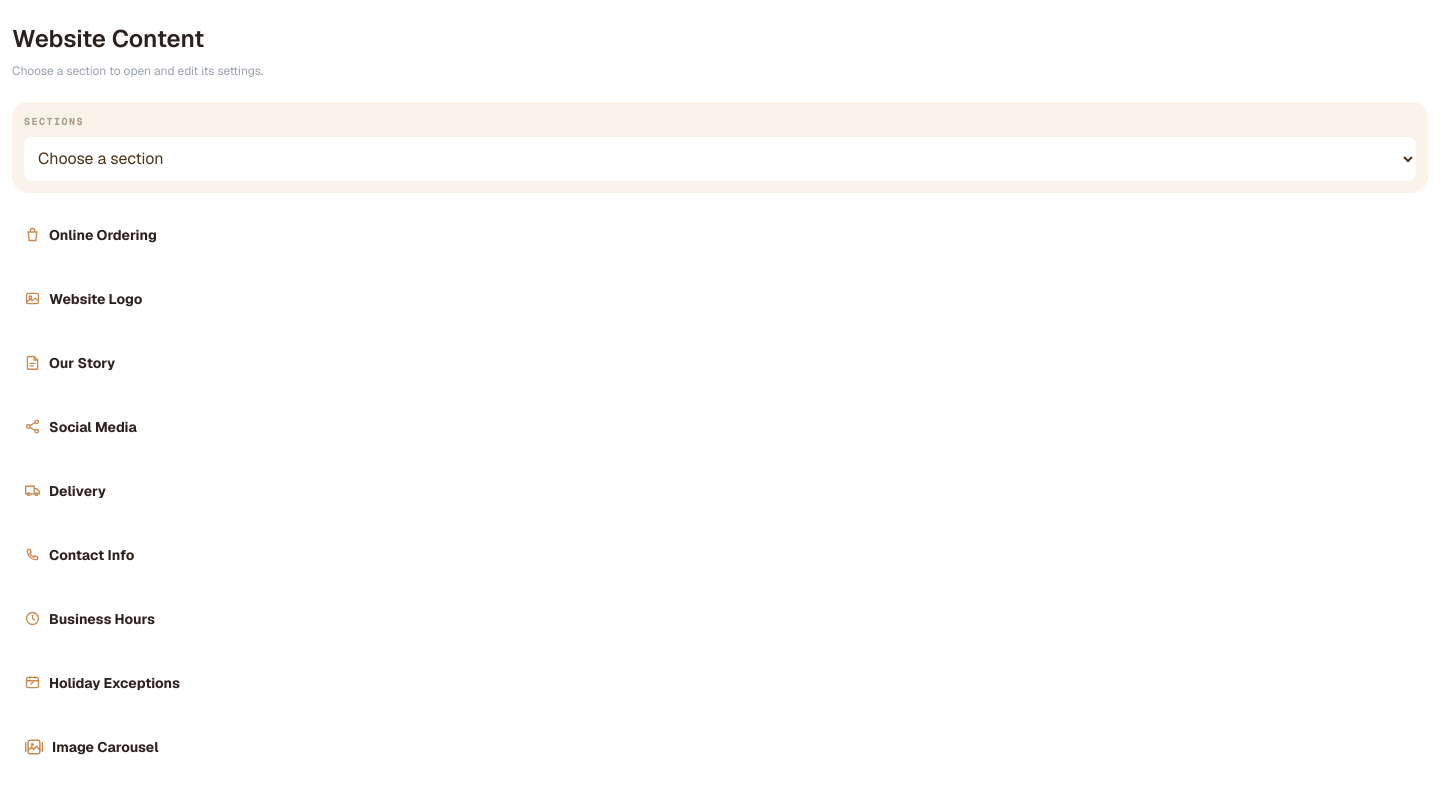
Test: confirmed website content deletion › keeps holiday confirmation informative on 404 and blocks retry until reload
Select "Holiday Exceptions" in the dropdown labelled "Sections" at (720, 158), box [24,136,1416,180]
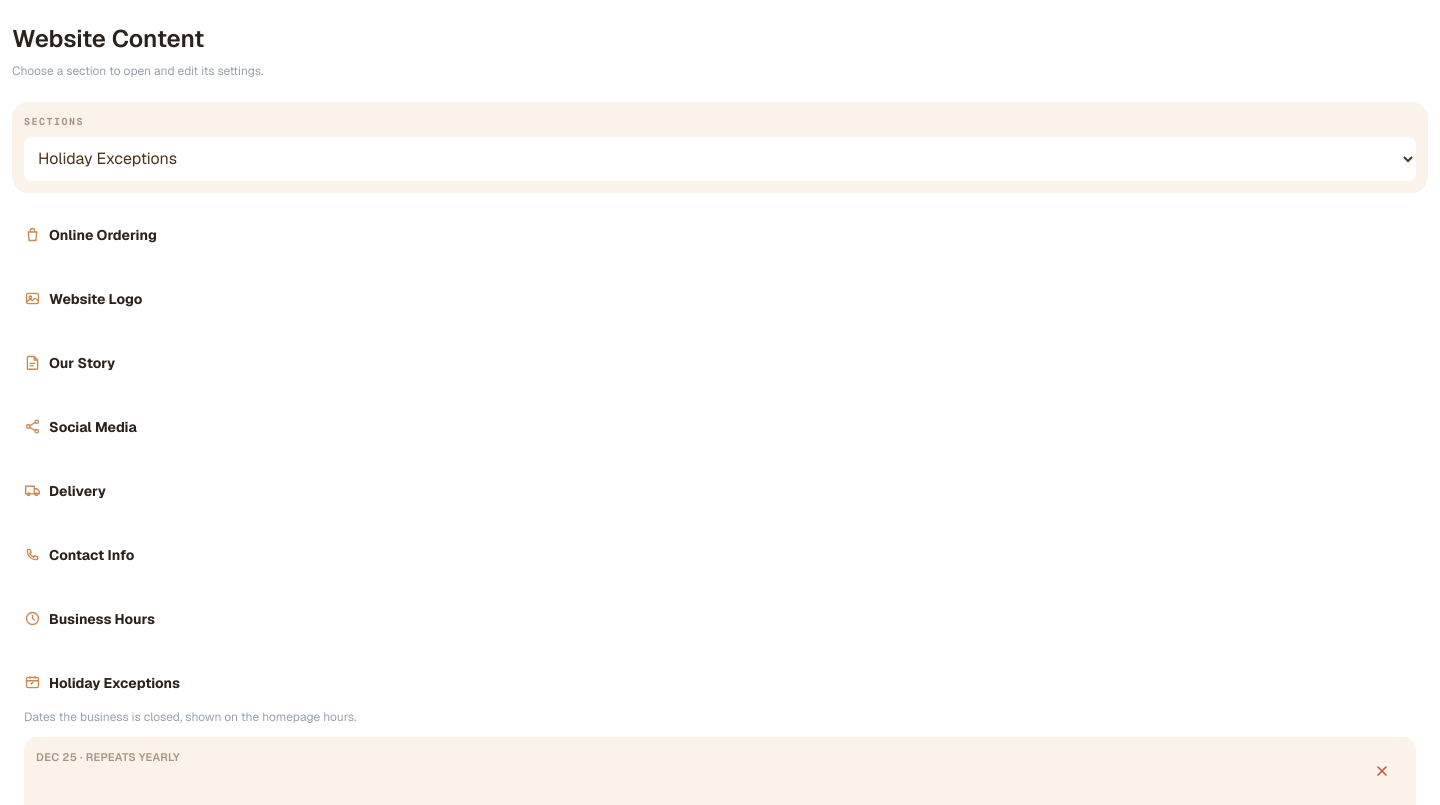
Click the button named "Remove Christmas".
click(1382, 770)  # box [1360,748,1404,792]
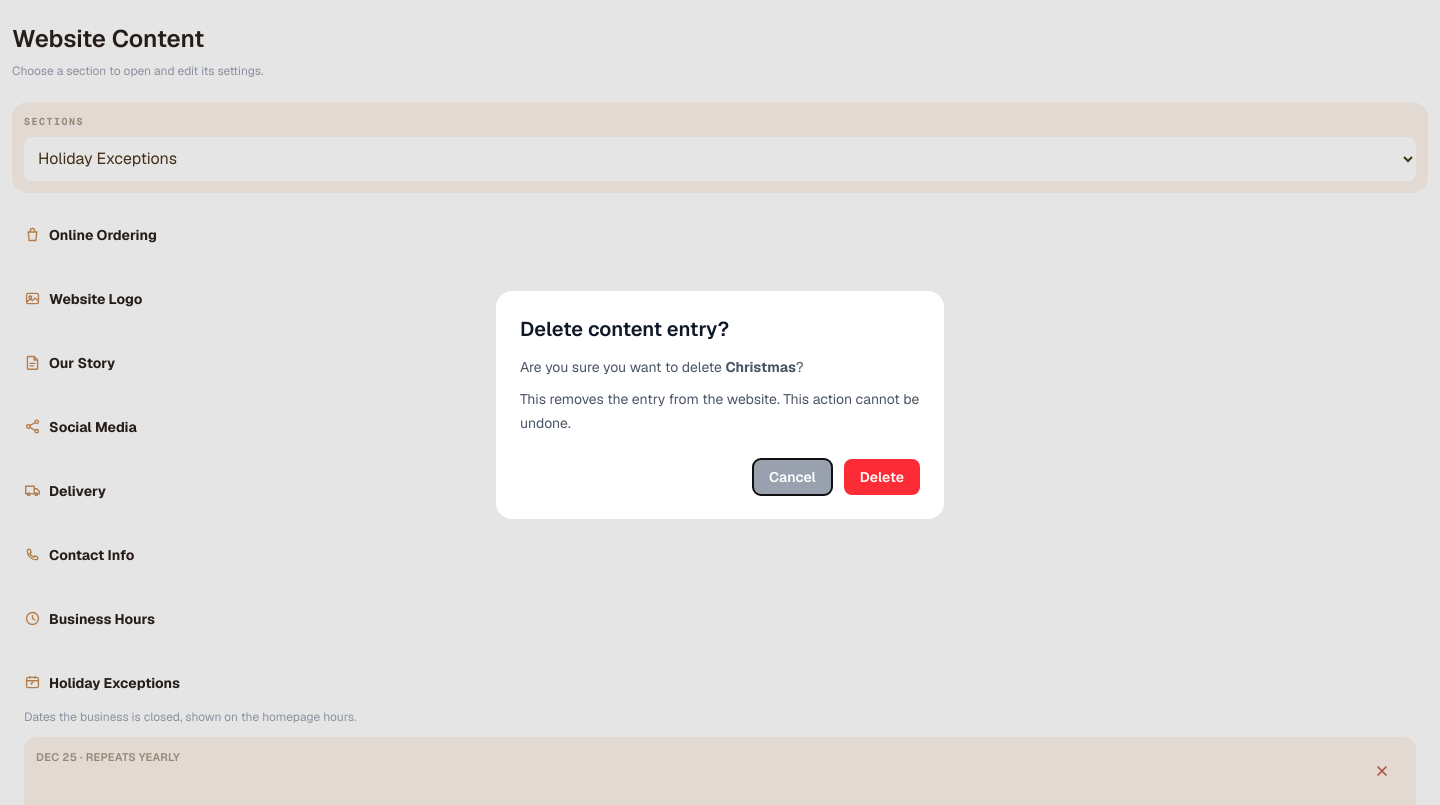
Click the button "Delete".
click(882, 477)  # box [844,459,920,495]
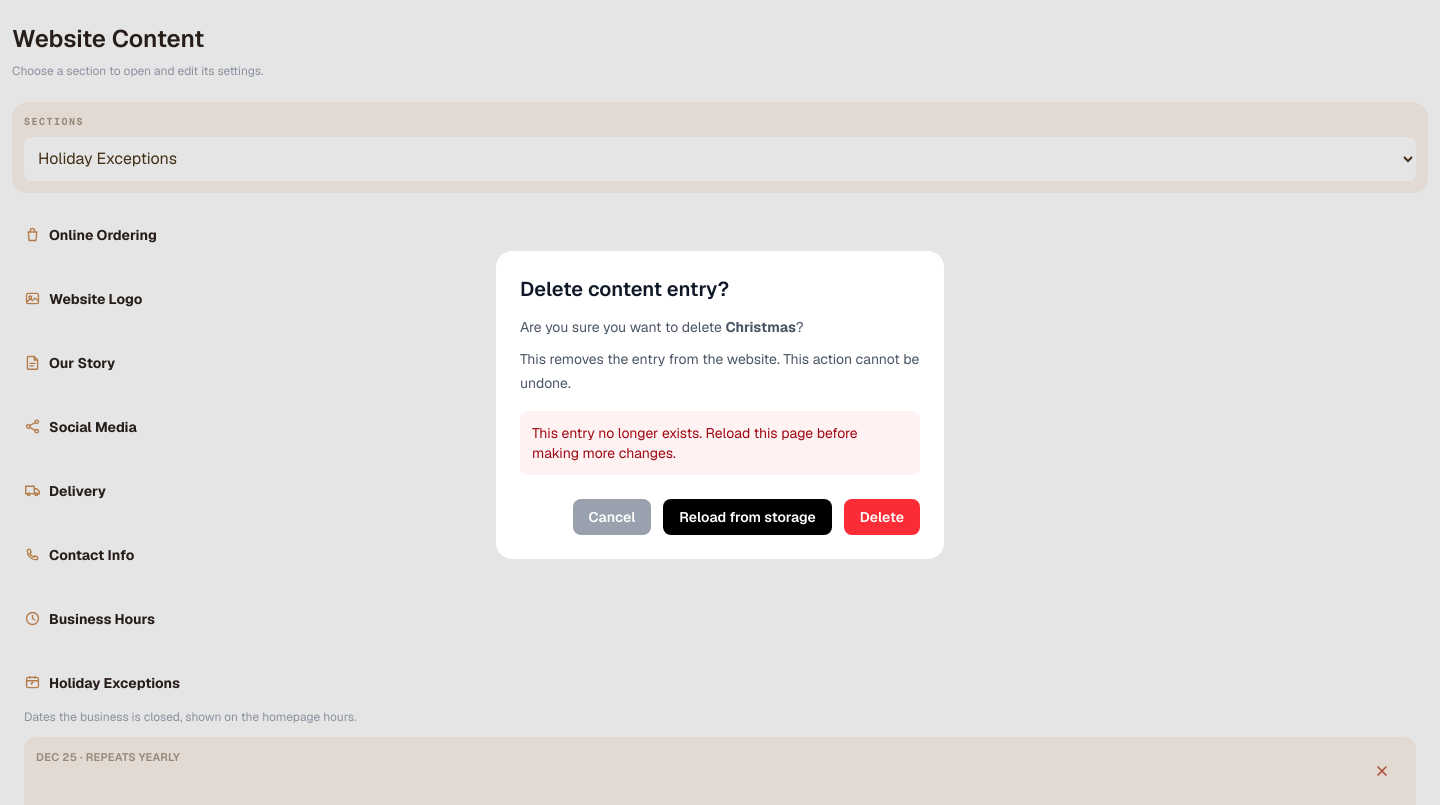
Check: the dialog is shown, box [496,251,944,559]
Check: the button named "Remove Christmas" is shown, box [1360,748,1404,792]
Check: the text "This entry no longer exists. Reload this page before making more changes." is shown, box [520,411,920,475]
Click the button "Delete".
click(882, 517)  # box [844,499,920,535]
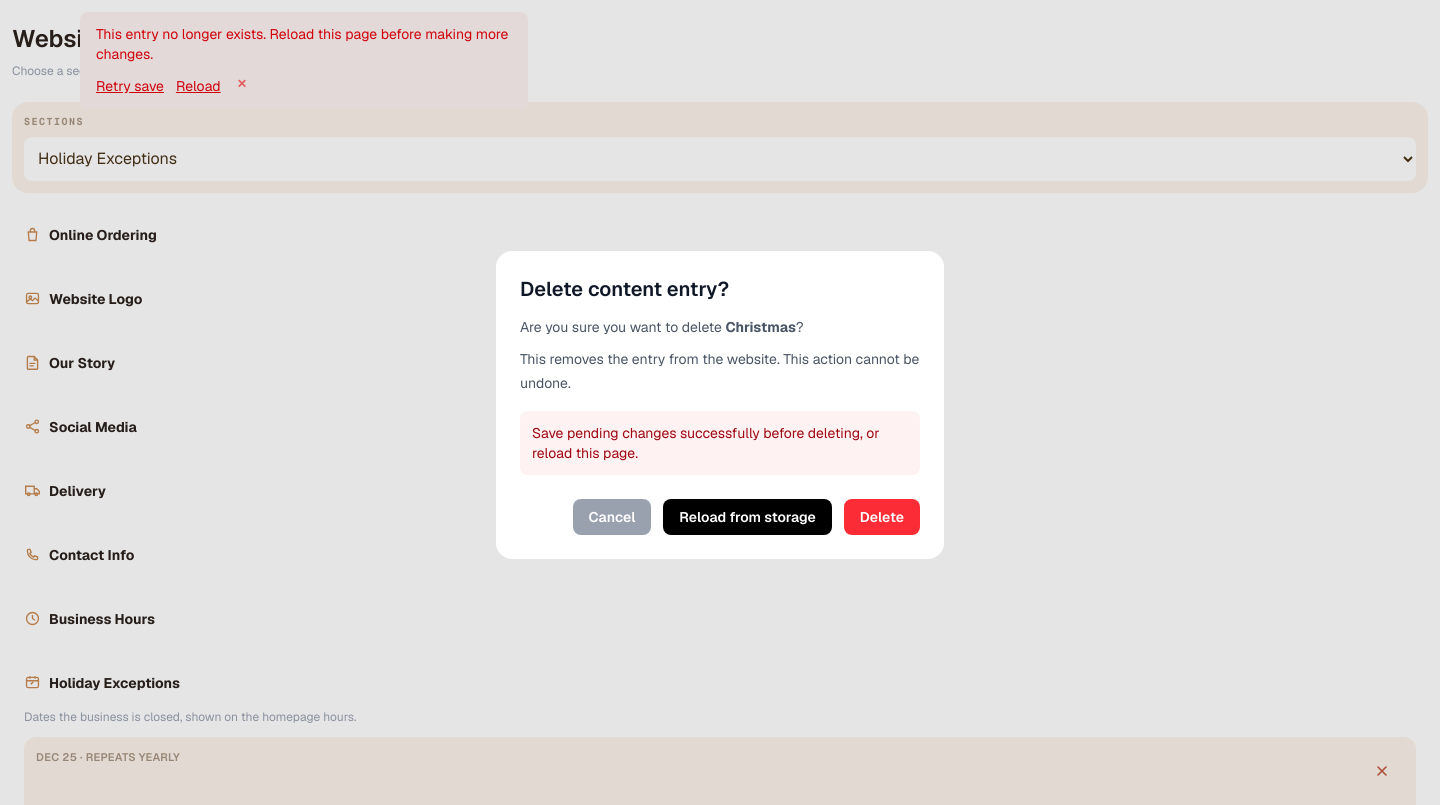
Check: the text "Save pending changes successfully before deleting, or reload this page." is shown, box [520,411,920,475]
